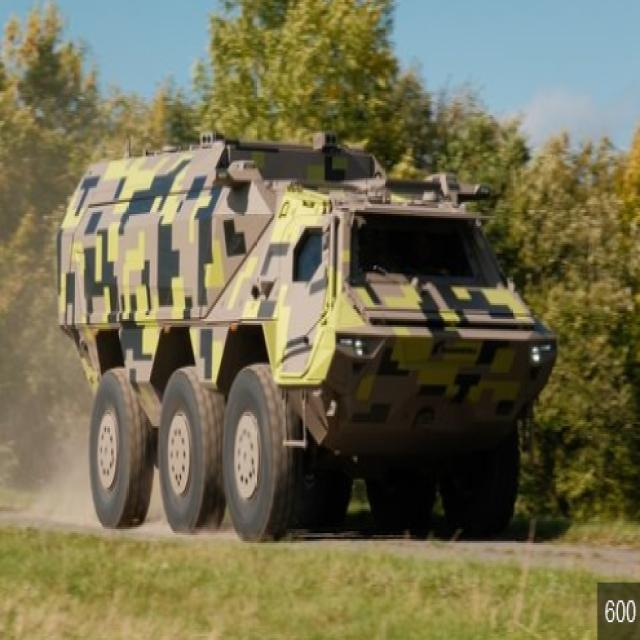MIL_APC: (54, 119, 574, 570)
